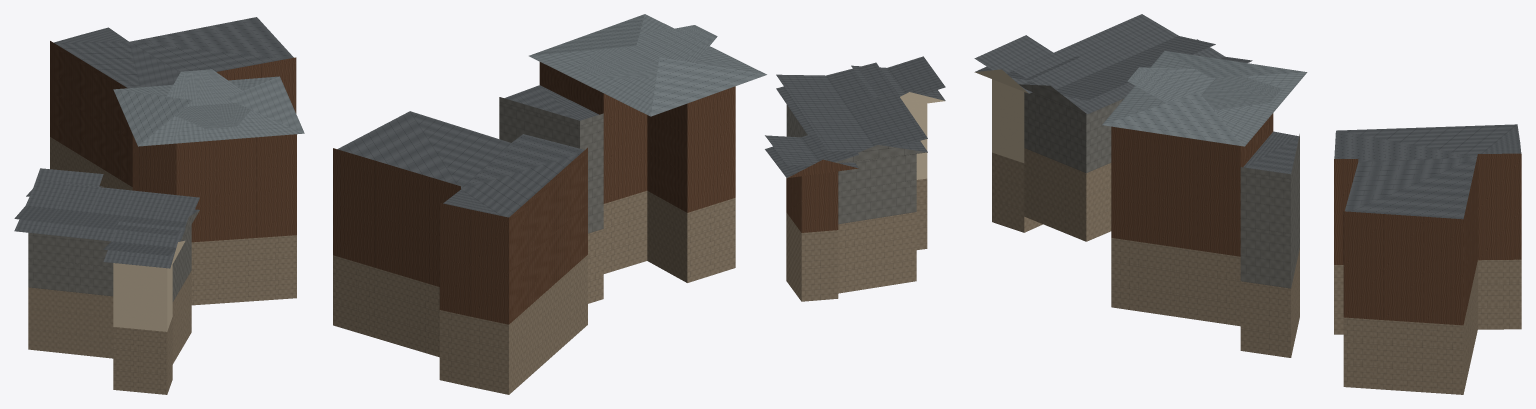
Rendered from bld_c31_-23_544.gltf.
3 views of the same model, side by side, from view 1: azimuth 30°, elevation 25°; view 2: azimuth 150°, elevation 25°; view 3: azimuth 270°, elevation 25° (orthographic). The views are drawn at different scales.
Visible parts, largest first — view 1: bld_c31_-23_544; view 2: bld_c31_-23_544; view 3: bld_c31_-23_544.
Part boxes in pixels (box(x1,y1,x2,y2)): bld_c31_-23_544: box(14, 17, 304, 394); bld_c31_-23_544: box(333, 14, 945, 394); bld_c31_-23_544: box(974, 14, 1521, 394).
Bounding box in the file's own units: 32.88 × 16.3 × 36.36.
Materials: 9 (9 with a texture image).
